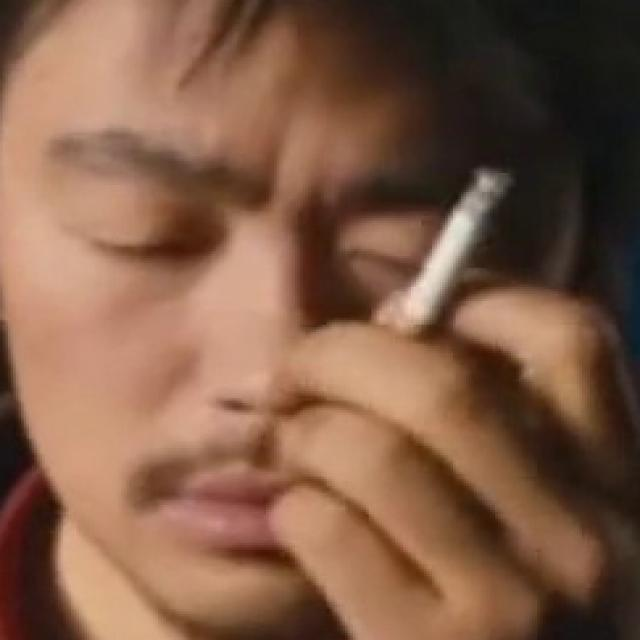smoking: (387, 166, 516, 338)
